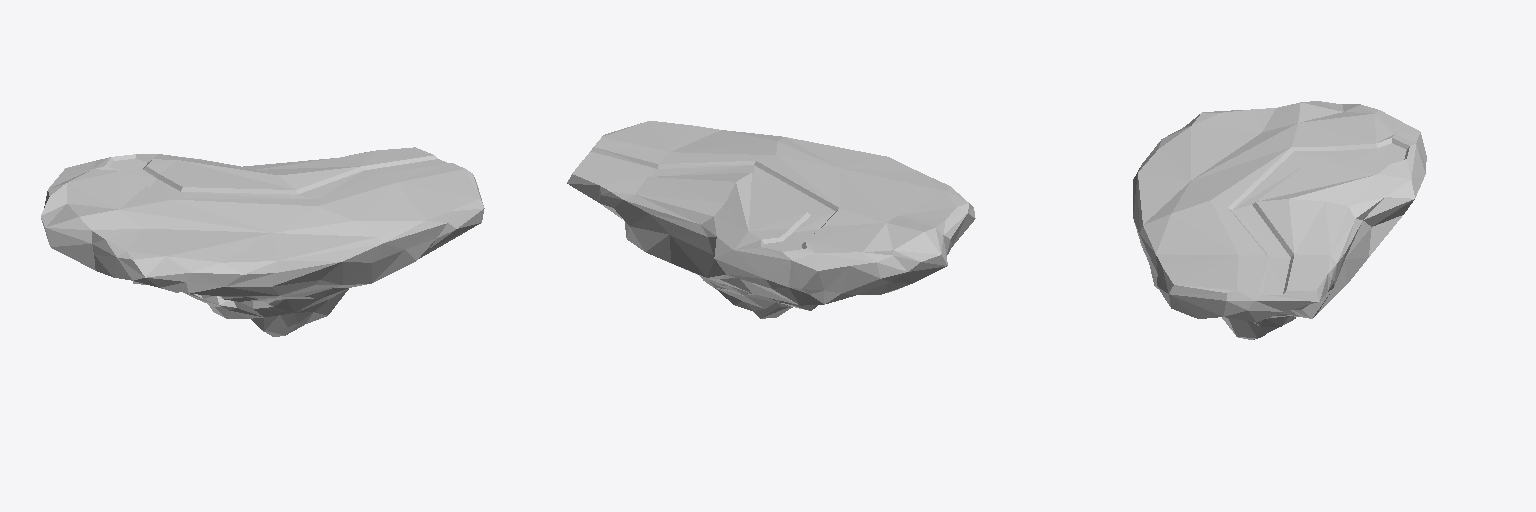
Rendered from IslandLShaped.obj.
3 views of the same model, side by side, from view 1: azimuth 30°, elevation 25°; view 2: azimuth 150°, elevation 25°; view 3: azimuth 270°, elevation 25° (orthographic).
Parts seen in each view (by area): view 1: L_Shaped_Island_Icosphere.022; view 2: L_Shaped_Island_Icosphere.022; view 3: L_Shaped_Island_Icosphere.022.
Part boxes in pixels (left/top/right/bottom): L_Shaped_Island_Icosphere.022: left=41, top=147, right=484, bottom=336; L_Shaped_Island_Icosphere.022: left=567, top=121, right=975, bottom=318; L_Shaped_Island_Icosphere.022: left=1133, top=101, right=1426, bottom=339.
Size of the model in its own units: 66.79 by 24.16 by 44.07.